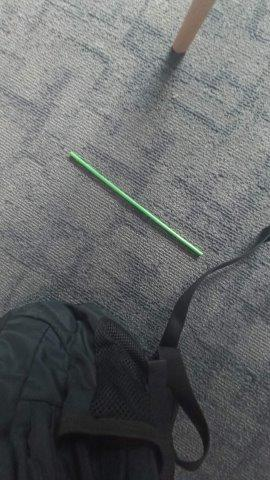sedotan: (69, 152, 202, 256)
